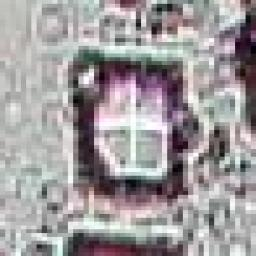crystals: (67, 53, 205, 206)
